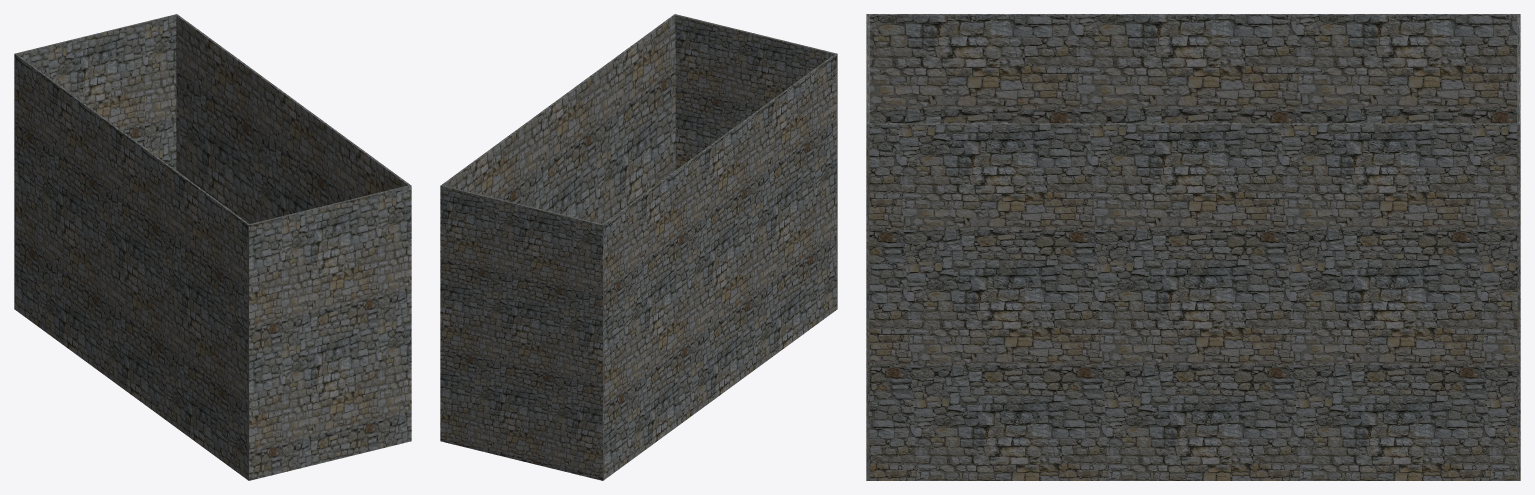
Rendered from 10x4construction.glb.
3 renders of one model, left to right at view 1: azimuth 30°, elevation 25°; view 2: azimuth 150°, elevation 25°; view 3: azimuth 270°, elevation 25°, orthographic. The views are drawn at different scales.
Parts seen in each view (by area): view 1: Cube.002; view 2: Cube.002; view 3: Cube.002.
Part boxes in pixels (box(x1,y1,x2,y2)): Cube.002: box(14, 14, 411, 480); Cube.002: box(440, 14, 837, 480); Cube.002: box(866, 14, 1520, 480).
Bounding box in the file's own units: 4.01 × 6.01 × 10.01.
1 material, 1 textured.
